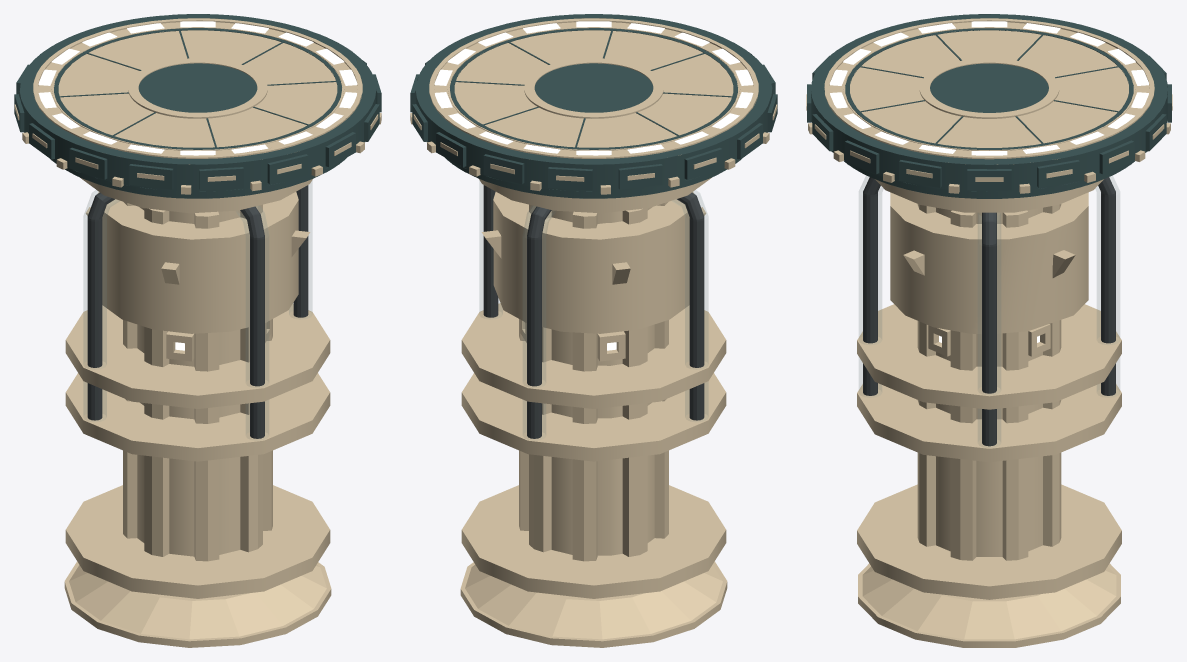
File: Platform_Relay_v3_D18_lab2.glb
The picture shows the model from 3 angles, left to right: view 1: azimuth 30°, elevation 25°; view 2: azimuth 150°, elevation 25°; view 3: azimuth 270°, elevation 25°; orthographic projection.
Parts seen in each view (by area): view 1: Platform_Relay_v3_D18; view 2: Platform_Relay_v3_D18; view 3: Platform_Relay_v3_D18.
Boxes of the visible parts, x1=… form: Platform_Relay_v3_D18: x1=14, y1=14, x2=381, y2=647; Platform_Relay_v3_D18: x1=410, y1=14, x2=777, y2=647; Platform_Relay_v3_D18: x1=806, y1=14, x2=1172, y2=647.
Bounding box in the file's own units: 12.32 × 18.71 × 12.32.
